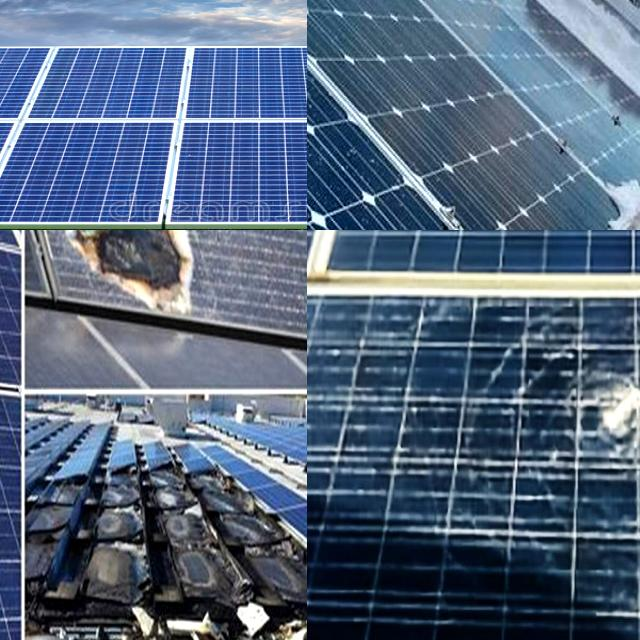crack: (101, 106, 307, 228), (28, 49, 209, 128), (158, 46, 307, 131)
hotspot: (574, 348, 640, 477)
panel: (596, 140, 640, 227)
shadow: (0, 247, 49, 640), (58, 230, 221, 330), (20, 476, 85, 581), (76, 552, 152, 606), (168, 544, 230, 608), (255, 551, 307, 610), (102, 506, 156, 554), (154, 498, 203, 540), (226, 519, 290, 548), (208, 495, 268, 515), (184, 470, 238, 488)
